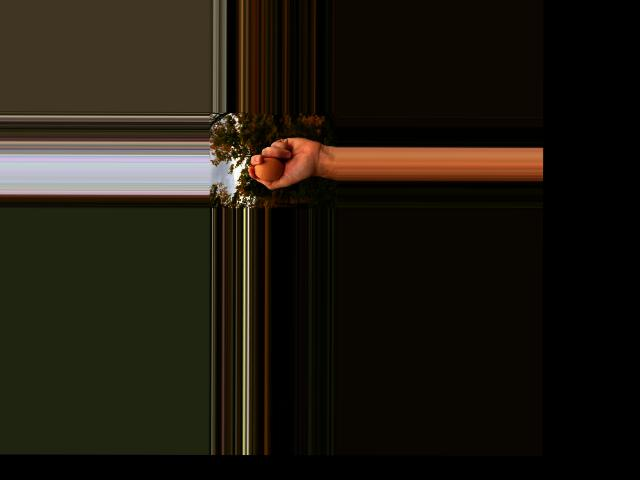egg: (254, 156, 283, 180)
